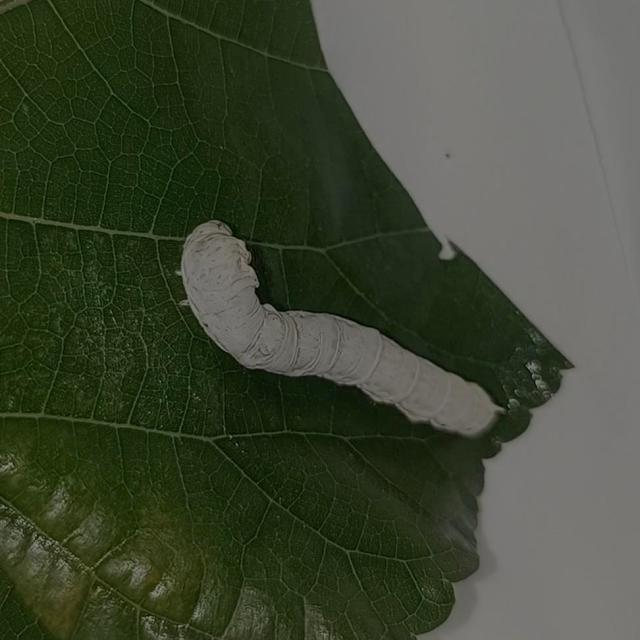Healthy: (158, 194, 523, 453)
